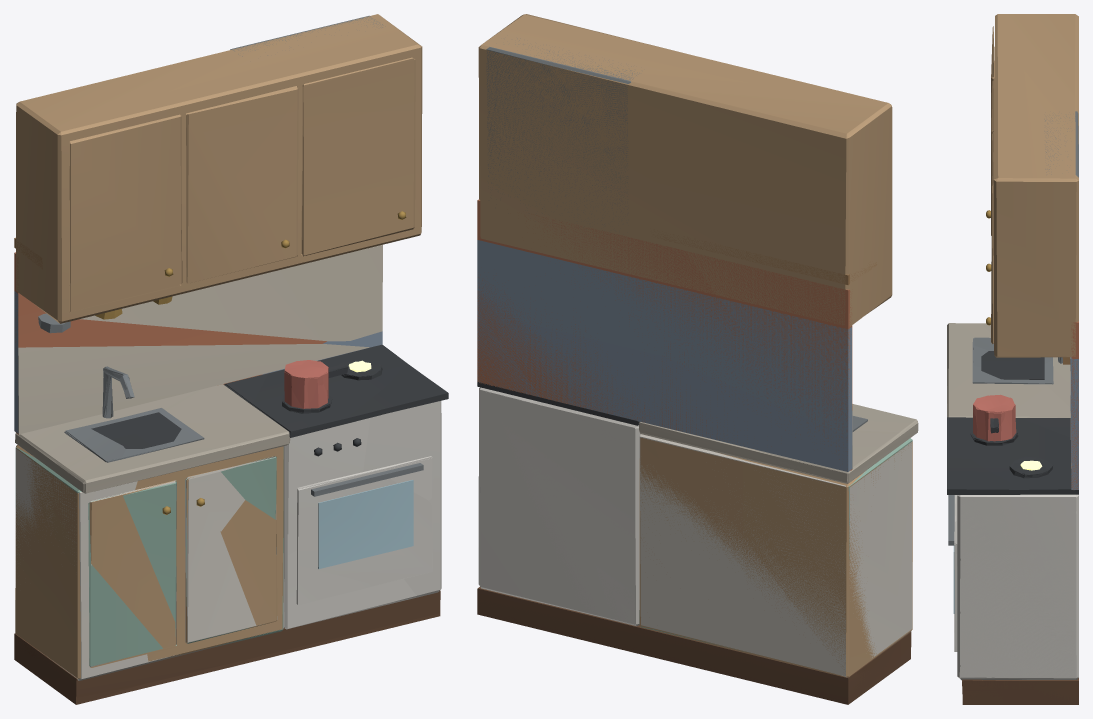
Rendered from kitchen.nook.glb.
3 renders of one model, left to right at view 1: azimuth 30°, elevation 25°; view 2: azimuth 150°, elevation 25°; view 3: azimuth 270°, elevation 25°, orthographic. The views are drawn at different scales.
Visible parts, largest first — view 1: kitchen.nook.v1.mesh, kitchen.nook.v0.mesh, kitchen.nook.v2.mesh; view 2: kitchen.nook.v1.mesh, kitchen.nook.v2.mesh, kitchen.nook.v0.mesh; view 3: kitchen.nook.v1.mesh, kitchen.nook.v2.mesh, kitchen.nook.v0.mesh.
Part boxes in pixels (bbox=[...]): kitchen.nook.v1.mesh: bbox=[14, 14, 448, 697]; kitchen.nook.v0.mesh: bbox=[15, 244, 448, 704]; kitchen.nook.v2.mesh: bbox=[14, 15, 448, 704]; kitchen.nook.v1.mesh: bbox=[477, 14, 918, 704]; kitchen.nook.v2.mesh: bbox=[477, 38, 918, 704]; kitchen.nook.v0.mesh: bbox=[478, 387, 917, 651]; kitchen.nook.v1.mesh: bbox=[947, 14, 1078, 704]; kitchen.nook.v2.mesh: bbox=[947, 111, 1078, 704]; kitchen.nook.v0.mesh: bbox=[947, 323, 1078, 680].
Bounding box in the file's own units: 1.5 × 2.2 × 0.5001.
